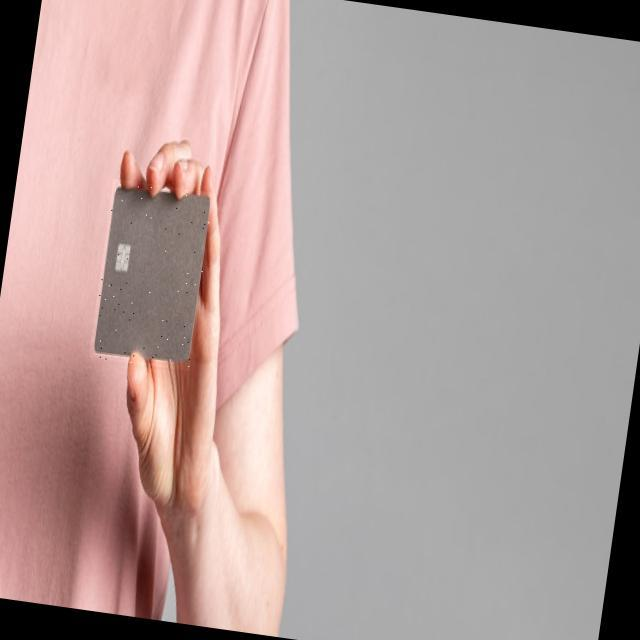payment_card: (92, 184, 210, 362)
